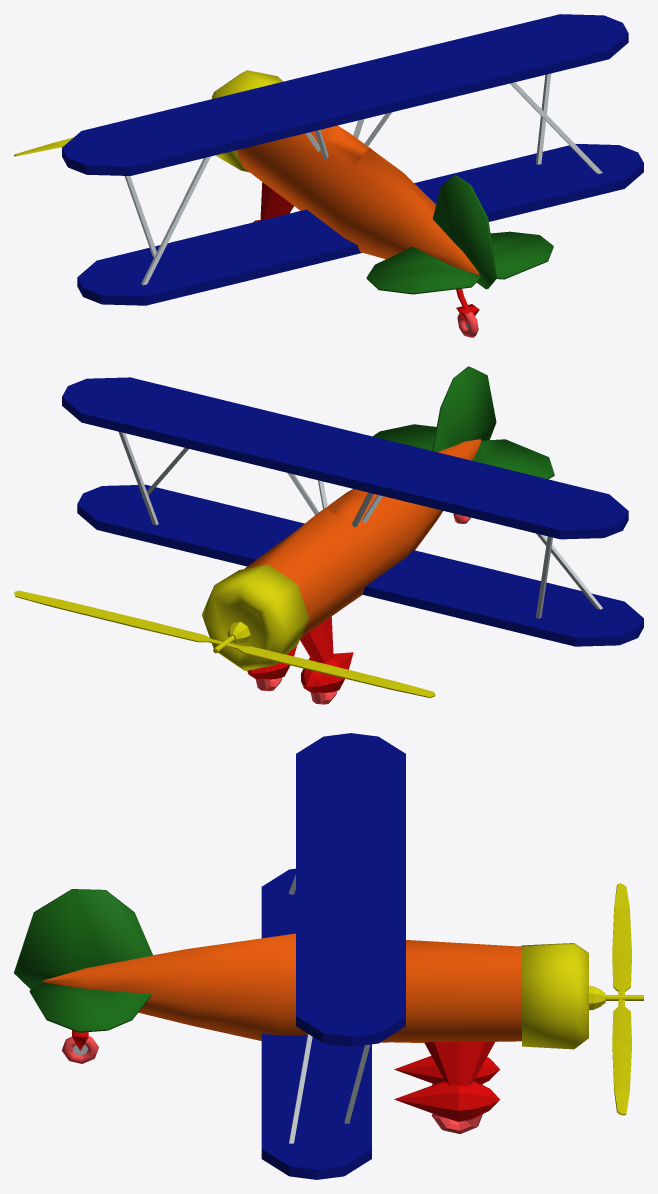
Rendered from Aviaozinho.fbx.
The picture shows the model from 3 angles, top to bottom: view 1: azimuth 30°, elevation 25°; view 2: azimuth 150°, elevation 25°; view 3: azimuth 270°, elevation 25°; orthographic projection. The views are drawn at different scales.
Visible parts, largest first — view 1: Aviaozinho; view 2: Aviaozinho; view 3: Aviaozinho.
Part boxes in pixels (x1,y1,x2,y2): Aviaozinho: (14,14,643,337); Aviaozinho: (14,366,643,704); Aviaozinho: (14,733,643,1179).
Size of the model in its own units: 39.94 by 14.33 by 35.01.
